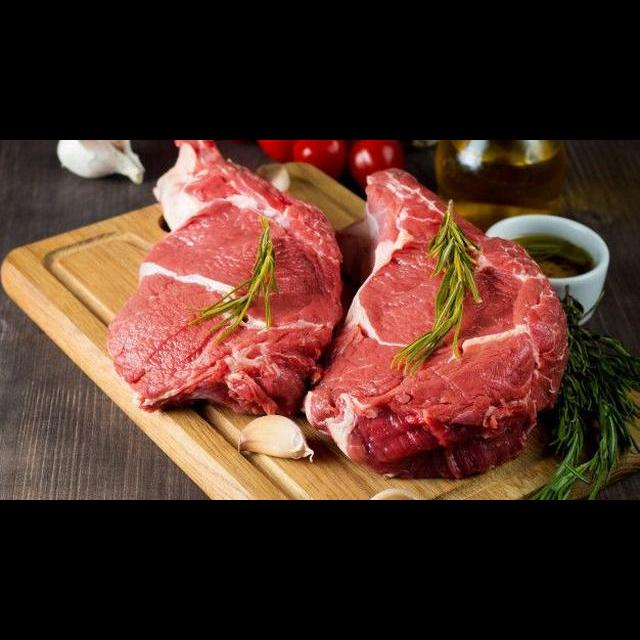beef: (292, 162, 590, 473), (100, 141, 346, 429)
